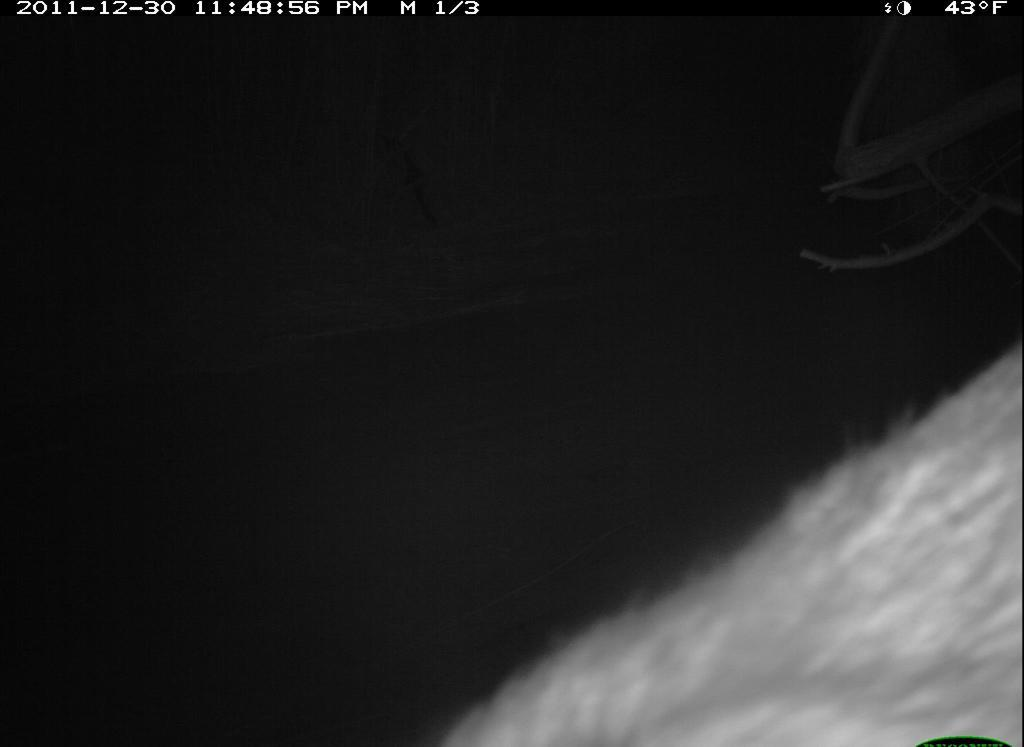raccoon: (449, 313, 1023, 740)
